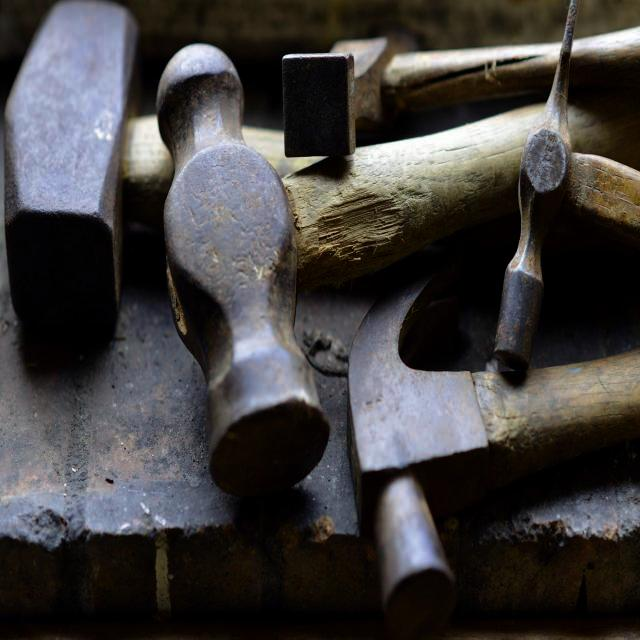hammer: (155, 26, 640, 498), (0, 6, 640, 354), (329, 262, 640, 640), (276, 0, 640, 176), (490, 0, 640, 374)
